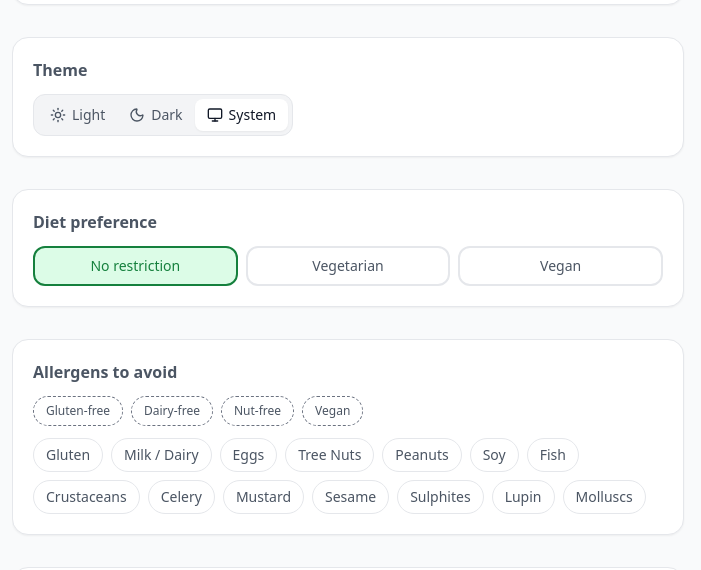
SettingsPage › shows save button after changing diet
(page scrolled)
Click the button "Vegetarian": [348, 266] box [246,246,450,286]
(page scrolled)
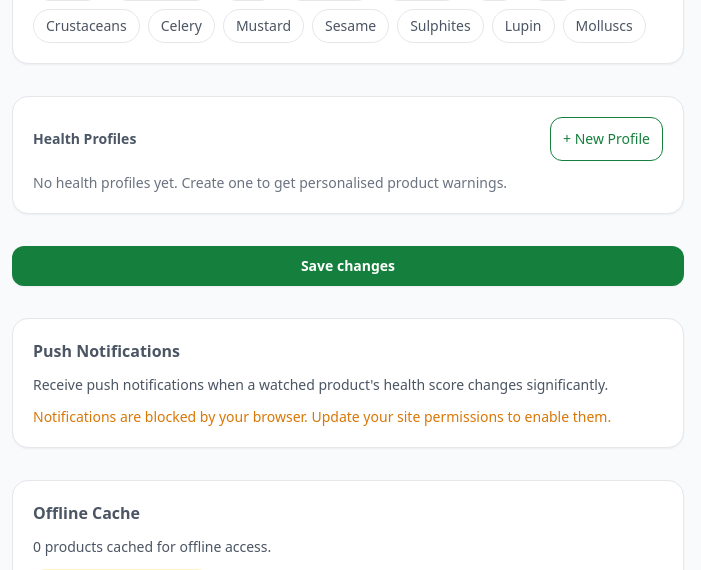
Expected: the button "Save changes" is shown, [12,246,684,286]
